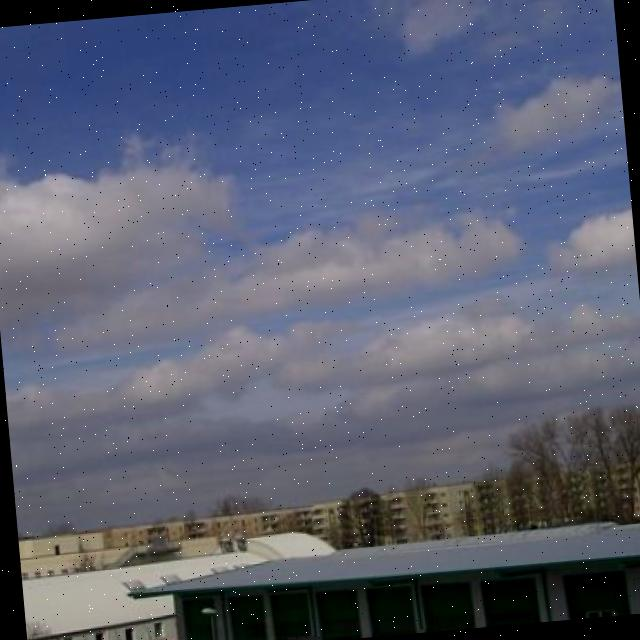Cu: (1, 64, 640, 442)
